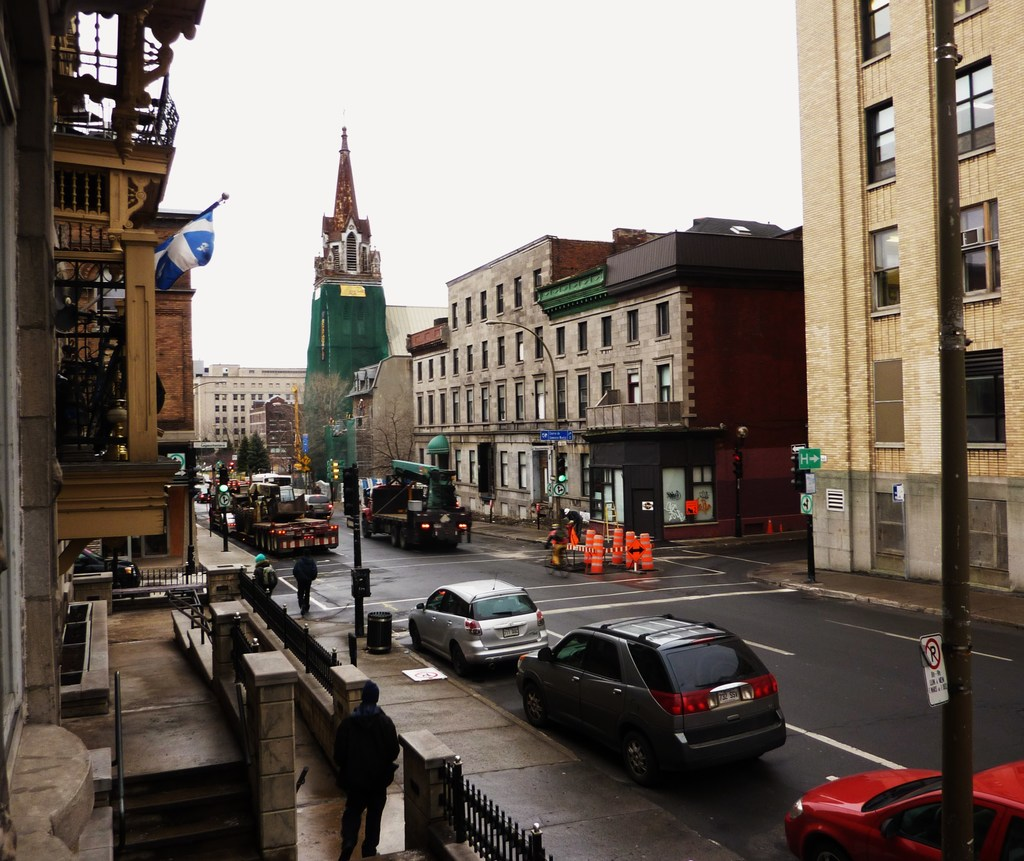Car: (514, 615, 791, 781), (785, 757, 1023, 860), (408, 572, 548, 676), (298, 491, 332, 520)
